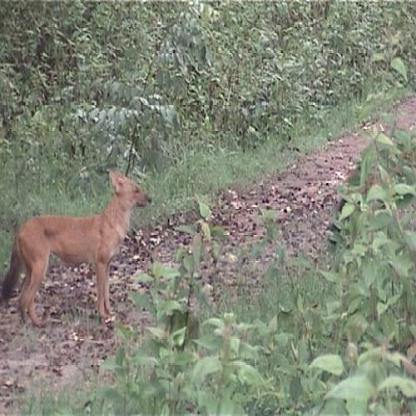dhole: (0, 164, 153, 324)
